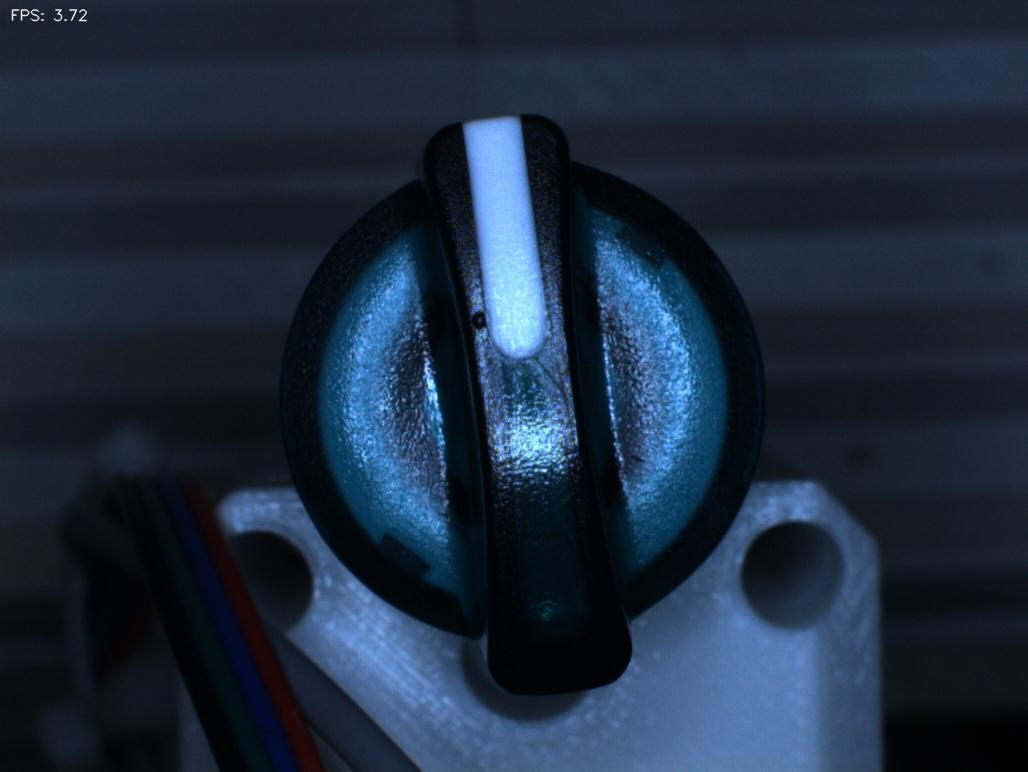Choc: (431, 278, 529, 365)
